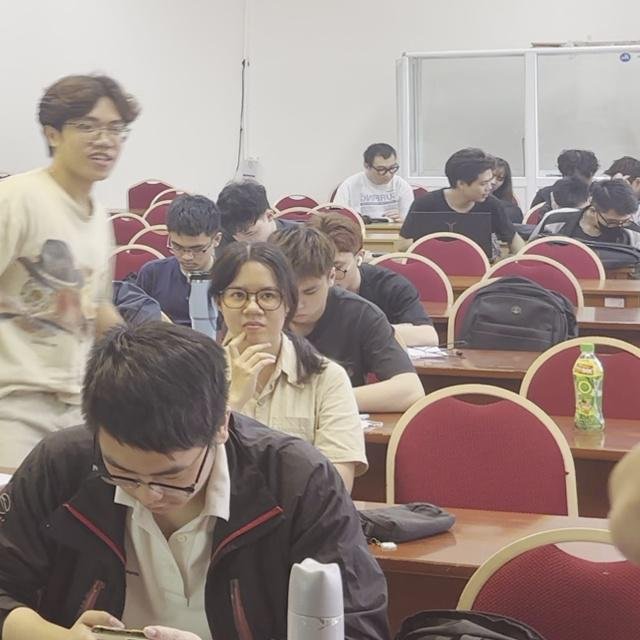Looking away: (76, 347, 236, 515), (260, 221, 341, 324), (148, 180, 223, 273), (440, 145, 507, 222), (218, 165, 273, 245), (584, 171, 640, 249), (540, 170, 587, 230), (369, 131, 407, 196), (602, 134, 640, 197), (547, 135, 589, 188)
Looking forward: (32, 61, 135, 191), (231, 257, 299, 361)
